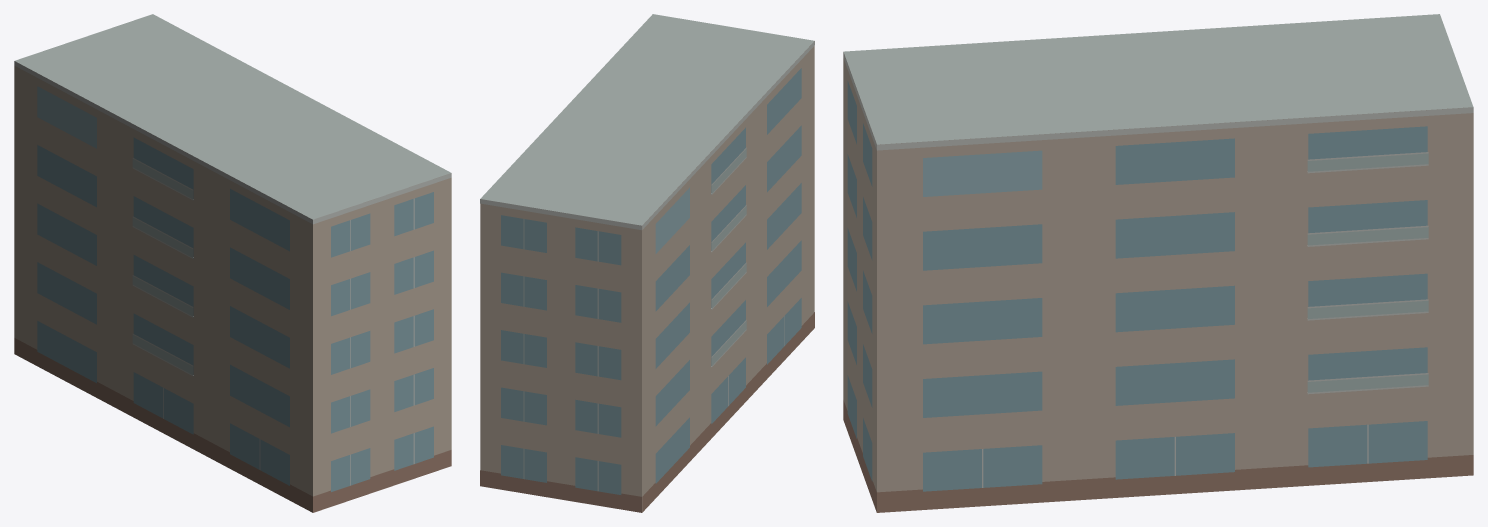
The model's file is survey-upis-32924599.glb.
The picture shows the model from 3 angles, left to right: view 1: azimuth 30°, elevation 25°; view 2: azimuth 150°, elevation 25°; view 3: azimuth 270°, elevation 25°; orthographic projection. The views are drawn at different scales.
Parts seen in each view (by area): view 1: survey-upis-32924599.tmp; view 2: survey-upis-32924599.tmp; view 3: survey-upis-32924599.tmp.
Boxes of the visible parts, left/top/right/bottom form: survey-upis-32924599.tmp: left=14, top=14, right=451, bottom=512; survey-upis-32924599.tmp: left=480, top=14, right=814, bottom=512; survey-upis-32924599.tmp: left=843, top=14, right=1473, bottom=512.
Size of the model in its own units: 11.61 by 15.25 by 23.66.
